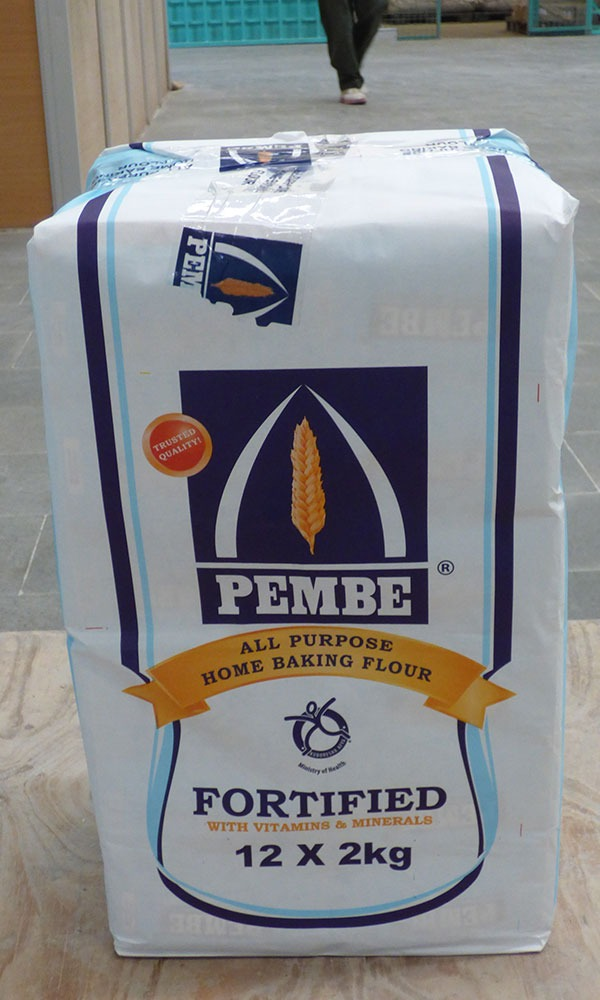wheat_flour_blue_label: (25, 128, 554, 959)
